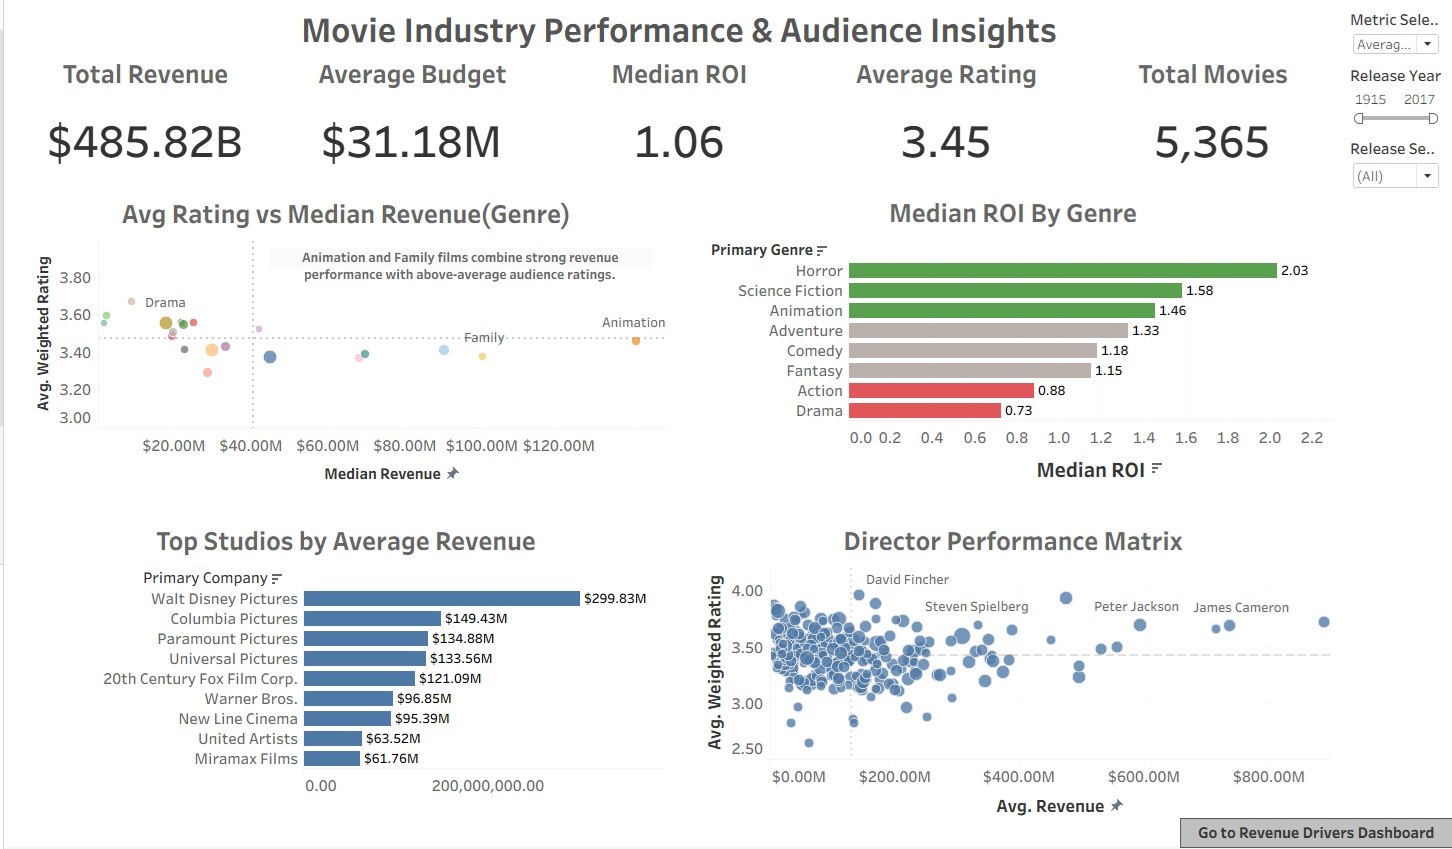

The dashboard page shown, as its layout file describes it:
{"tool":"tableau","page":{"name":"Movie Industry Performance & Audience Insights","canvas":[1450,850],"ordinal":0},"visuals":[{"type":"text","box":[8,8,1334,47]},{"type":"parameter","param":"[Parameters].[Parameter 1]","box":[1342,8,100,56]},{"type":"worksheet","title":"Total Revenue","mark":"Automatic","box":[8,55,267,127]},{"type":"worksheet","title":"Average Budget","mark":"Automatic","box":[275,55,267,127]},{"type":"worksheet","title":"Median ROI","mark":"Automatic","box":[542,55,267,127]},{"type":"worksheet","title":"Average Rating","mark":"Automatic","box":[809,55,267,127]},{"type":"worksheet","title":"Total Movies","mark":"Automatic","box":[1076,55,266,127]},{"type":"filter","title":"Studio Performance","param":"[federated.0nhotkx1jesgza1bcntv905joz9l].[none:release_year:qk]","box":[1342,64,100,73]},{"type":"filter","title":"Studio Performance","param":"[federated.0nhotkx1jesgza1bcntv905joz9l].[none:release_season:nk]","box":[1342,137,100,61]},{"type":"worksheet","title":"Avg Rating vs Median Revenue(Genre)","mark":"Circle","rows":["weighted_rating"],"cols":["revenue"],"box":[8,182,668.1,325]},{"type":"worksheet","title":"Median ROI By Genre","mark":"Automatic","rows":["primary_genre"],"cols":["roi"],"box":[676.1,182,665.9,325]},{"type":"worksheet","title":"Studio Performance","mark":"Automatic","rows":["primary_company"],"cols":["Calculation_1036566135062532"],"box":[8,507,668.1,335]},{"type":"worksheet","title":"Director Performance Matrix","mark":"Circle","rows":["weighted_rating"],"cols":["revenue"],"box":[676.1,507,665.9,335]},{"type":"dashboard-object","box":[1176,821,273,30]}]}

Visuals, with their boxes in screenshot pixels (x1, y1, x2, y2), scaled from the page's 1450x850 canvas onto the 1452x849 screenshot:
text: 8, 8, 1344, 55
parameter: 1344, 8, 1444, 64
"Total Revenue" worksheet: 8, 55, 275, 182
"Average Budget" worksheet: 275, 55, 543, 182
"Median ROI" worksheet: 543, 55, 810, 182
"Average Rating" worksheet: 810, 55, 1077, 182
"Total Movies" worksheet: 1077, 55, 1344, 182
"Studio Performance" filter: 1344, 64, 1444, 137
"Studio Performance" filter: 1344, 137, 1444, 198
"Avg Rating vs Median Revenue(Genre)" worksheet (Circle marks): 8, 182, 677, 506
"Median ROI By Genre" worksheet: 677, 182, 1344, 506
"Studio Performance" worksheet: 8, 506, 677, 841
"Director Performance Matrix" worksheet (Circle marks): 677, 506, 1344, 841
dashboard-object: 1178, 820, 1451, 848
